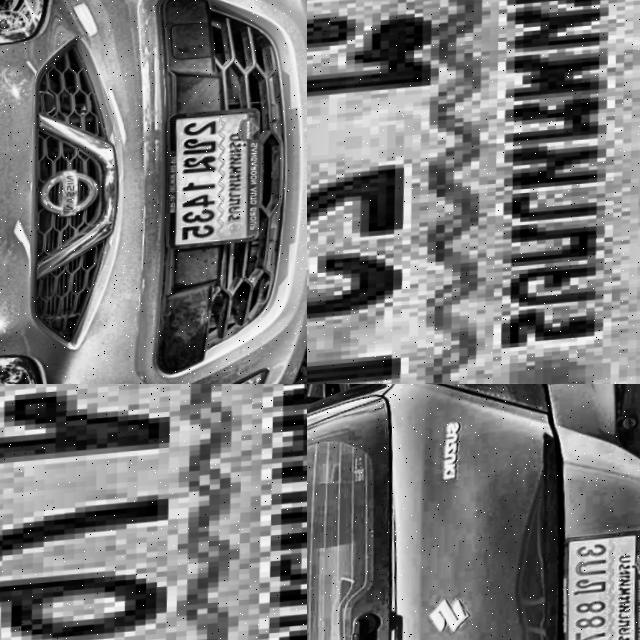license-plate: (307, 0, 640, 384), (0, 384, 307, 640), (156, 106, 285, 261), (551, 535, 640, 640)
